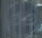bike lane: (1, 1, 41, 36)
